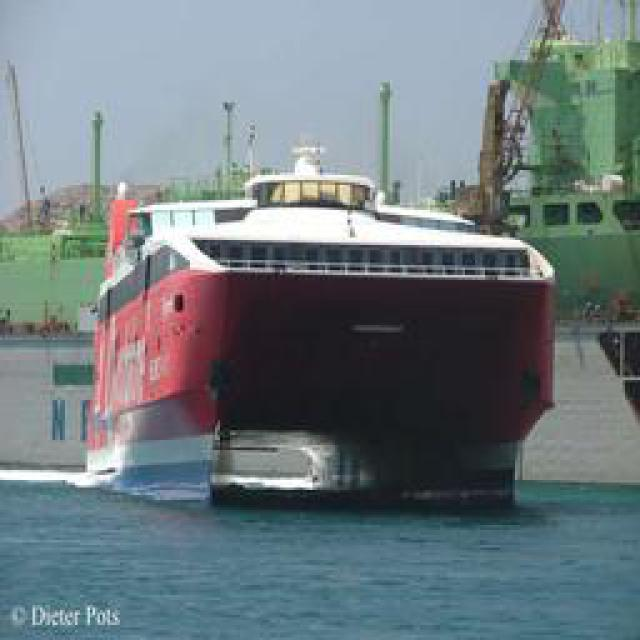Ship: (72, 120, 570, 508)
